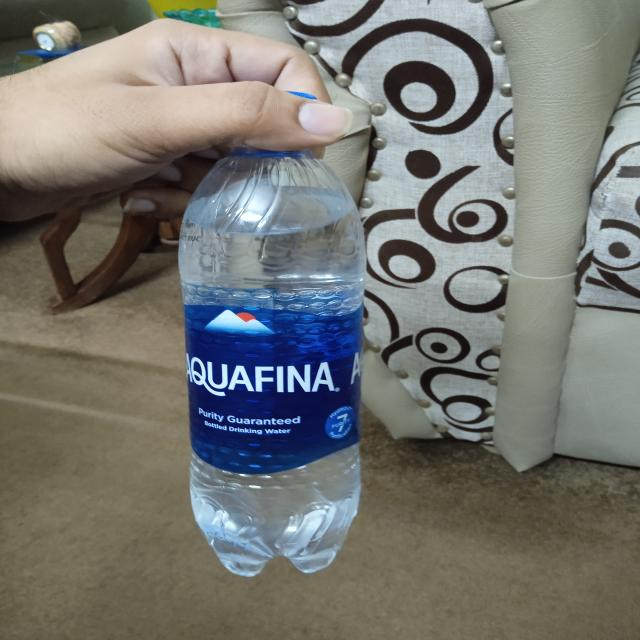Plastic: (172, 157, 372, 577)
